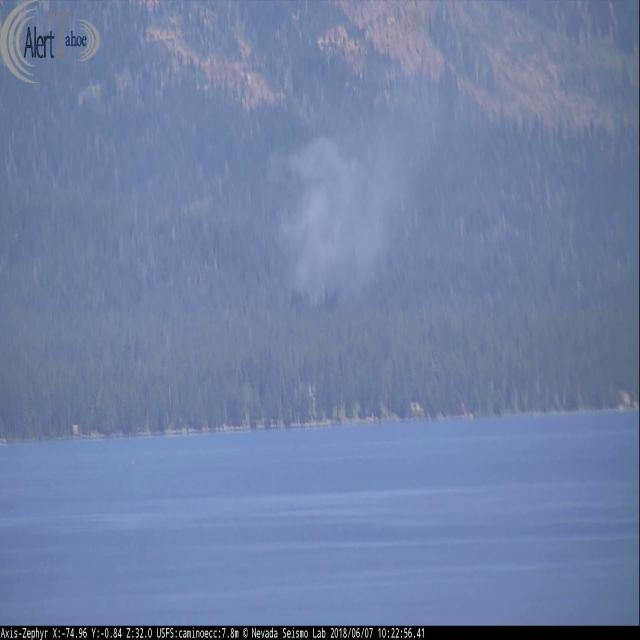smoke: (264, 92, 434, 311)
